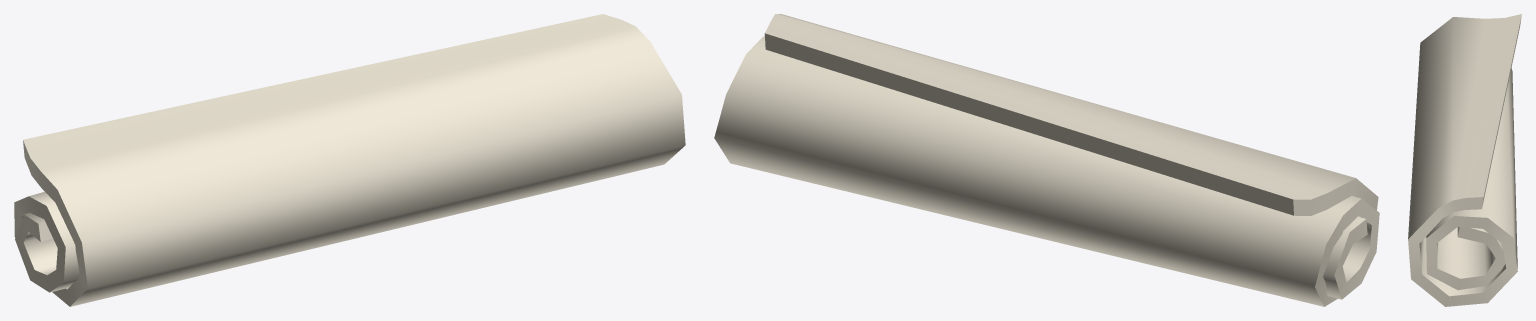
The model's file is Parchment_C.fbx.
3 renders of one model, left to right at view 1: azimuth 30°, elevation 25°; view 2: azimuth 150°, elevation 25°; view 3: azimuth 270°, elevation 25°, orthographic. The views are drawn at different scales.
Parts seen in each view (by area): view 1: Parchment_C; view 2: Parchment_C; view 3: Parchment_C.
Part boxes in pixels (bbox=[...]): Parchment_C: bbox=[14, 14, 685, 306]; Parchment_C: bbox=[714, 14, 1379, 306]; Parchment_C: bbox=[1408, 14, 1521, 306].
Size of the model in its own units: 42.26 by 9.24 by 9.59.
